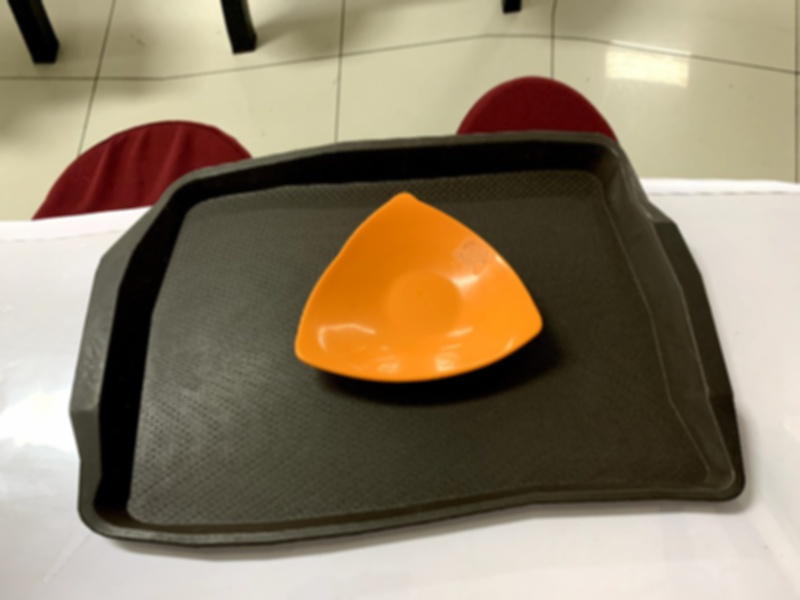dish11: (282, 189, 557, 393)
